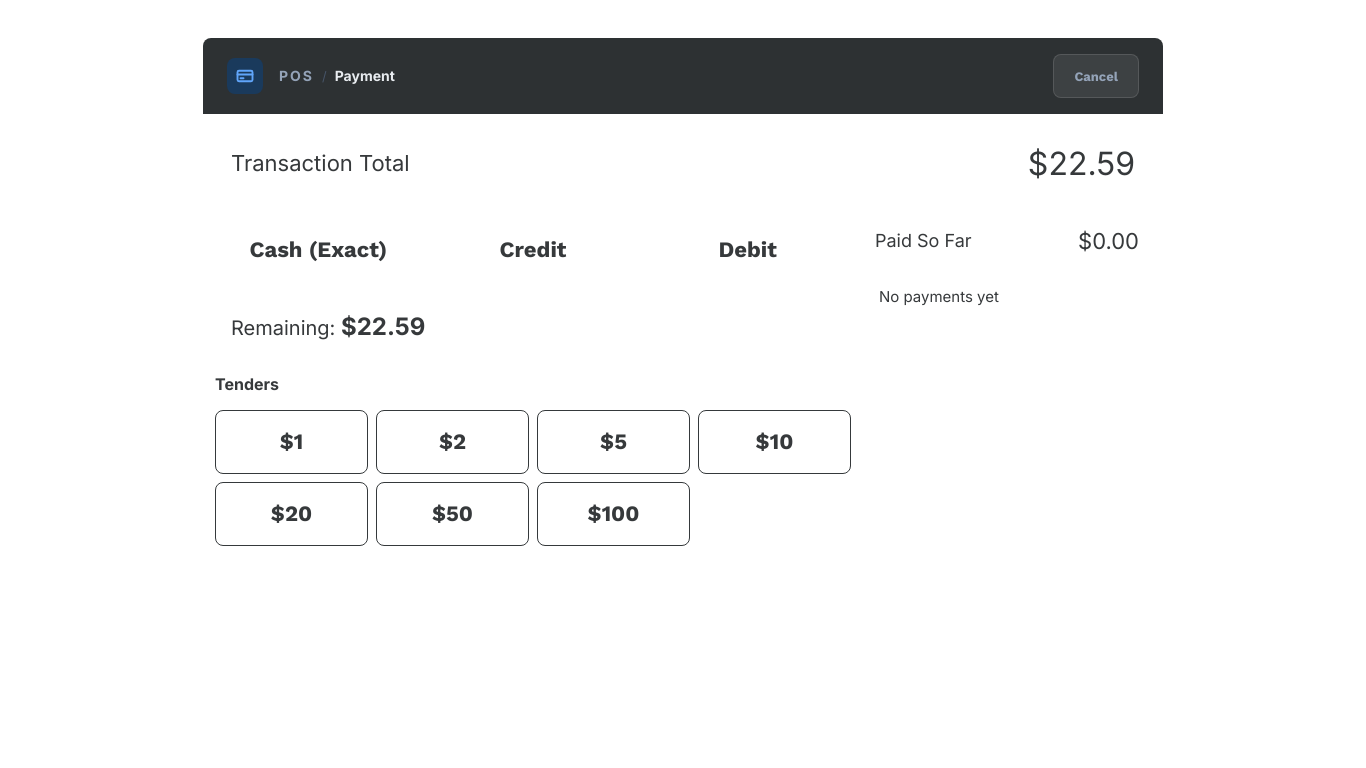
Scenario: PaymentModal › with Finix card API (finixChargeCard) › shows processing spinner when Credit is clicked
The width and height of the screenshot is (1366, 768).
Click the button "Credit" at (533, 250), box [430,214,636,286]
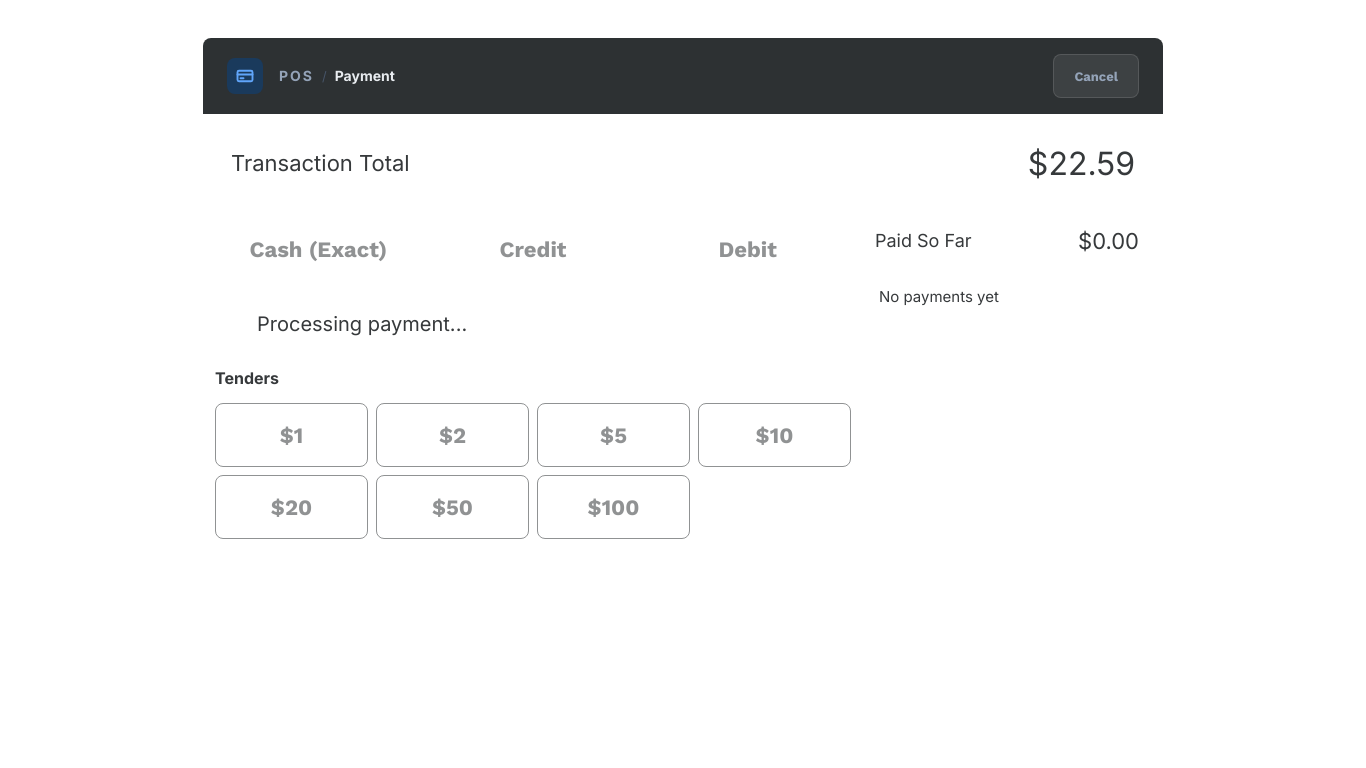
expect the element with test id "payment-processing" is shown: met, box [231,308,467,340]
expect the element with test id "payment-processing" reads "Processing payment...": met, box [257,312,467,336]
